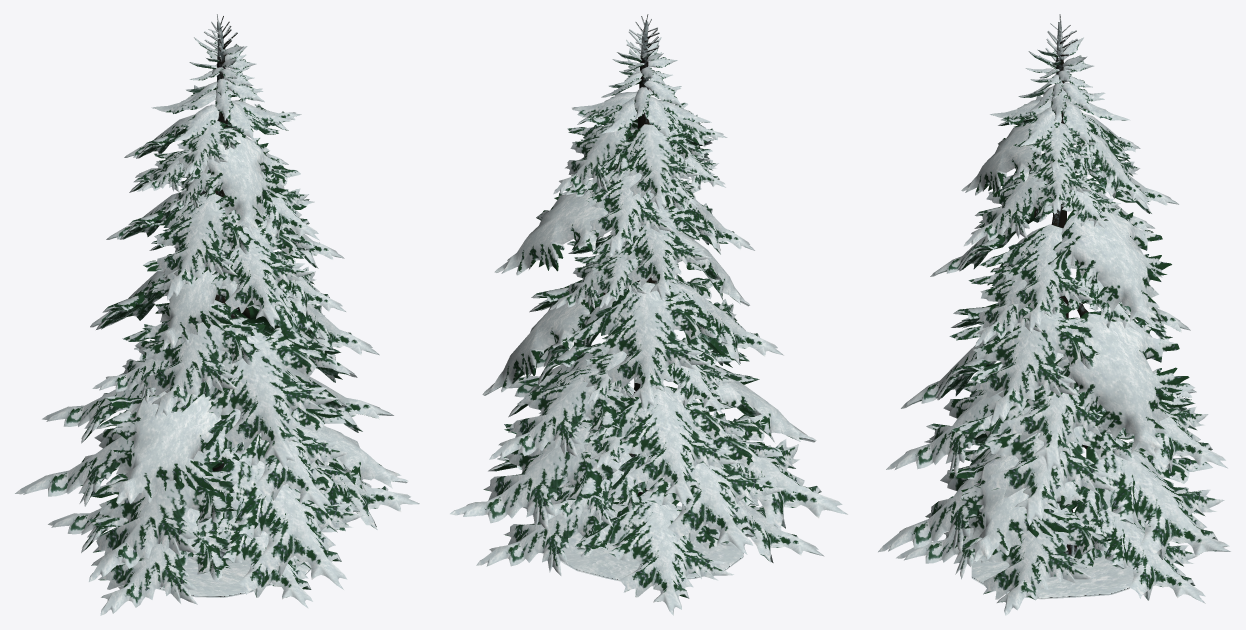
The model's file is Snowy Pine Tree.glb.
3 views of the same model, side by side, from view 1: azimuth 30°, elevation 25°; view 2: azimuth 150°, elevation 25°; view 3: azimuth 270°, elevation 25° (orthographic). The views are drawn at different scales.
Visible parts, largest first — view 1: snowy_pine_tree.1; view 2: snowy_pine_tree.1; view 3: snowy_pine_tree.1.
Part boxes in pixels (box(x1,y1,x2,y2)): snowy_pine_tree.1: box(15, 14, 419, 615); snowy_pine_tree.1: box(450, 14, 847, 615); snowy_pine_tree.1: box(878, 14, 1230, 615).
Bounding box in the file's own units: 0.6756 × 1.02 × 0.601.
1 material, 1 textured.
